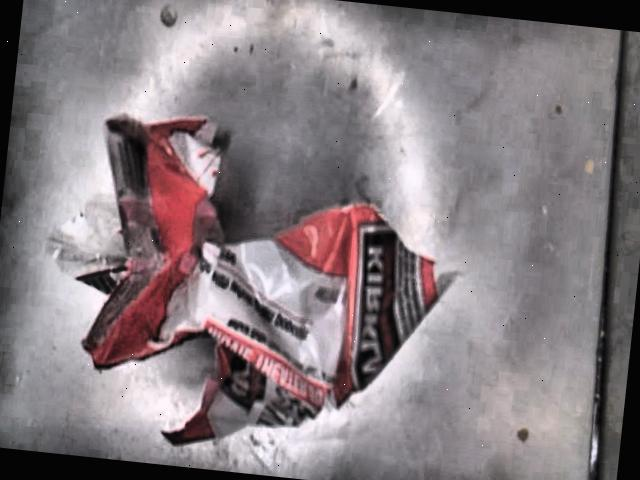Plastic: (48, 112, 460, 448)
